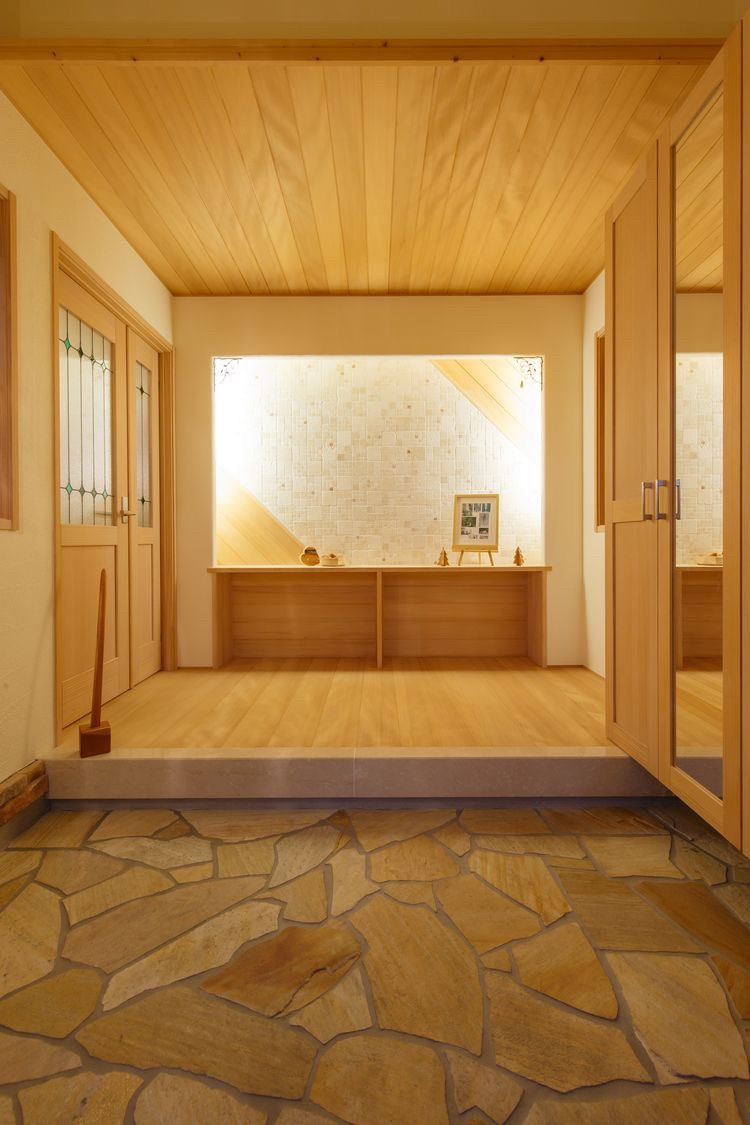floor: (0, 805, 749, 1124)
